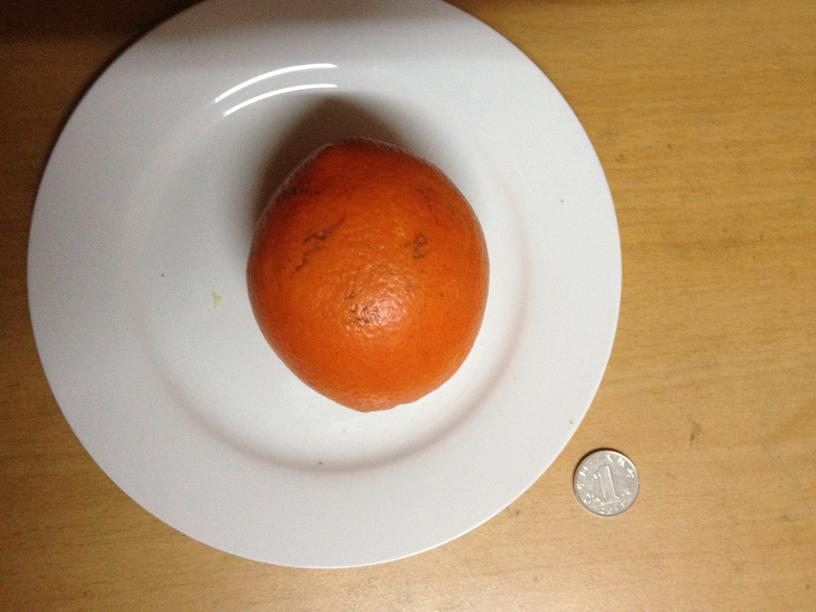coin: (571, 444, 641, 515)
orange: (246, 140, 488, 413)
